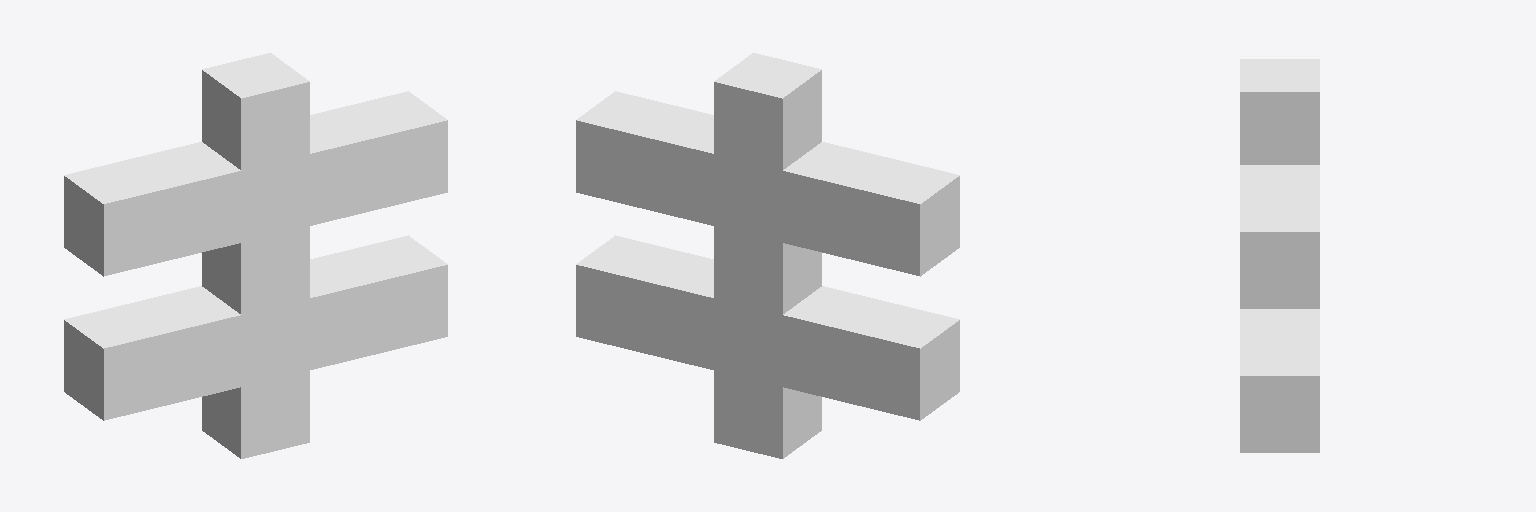
Rendered from fence_straight.obj.
3 views of the same model, side by side, from view 1: azimuth 30°, elevation 25°; view 2: azimuth 150°, elevation 25°; view 3: azimuth 270°, elevation 25° (orthographic).
Visible parts, largest first — view 1: object 1; view 2: object 1; view 3: object 1.
Part boxes in pixels (x1,y1,x2,y2): object 1: (64, 53, 447, 458); object 1: (576, 53, 959, 458); object 1: (1240, 59, 1319, 452).
Size of the model in its own units: 0.5 by 0.5 by 0.1.